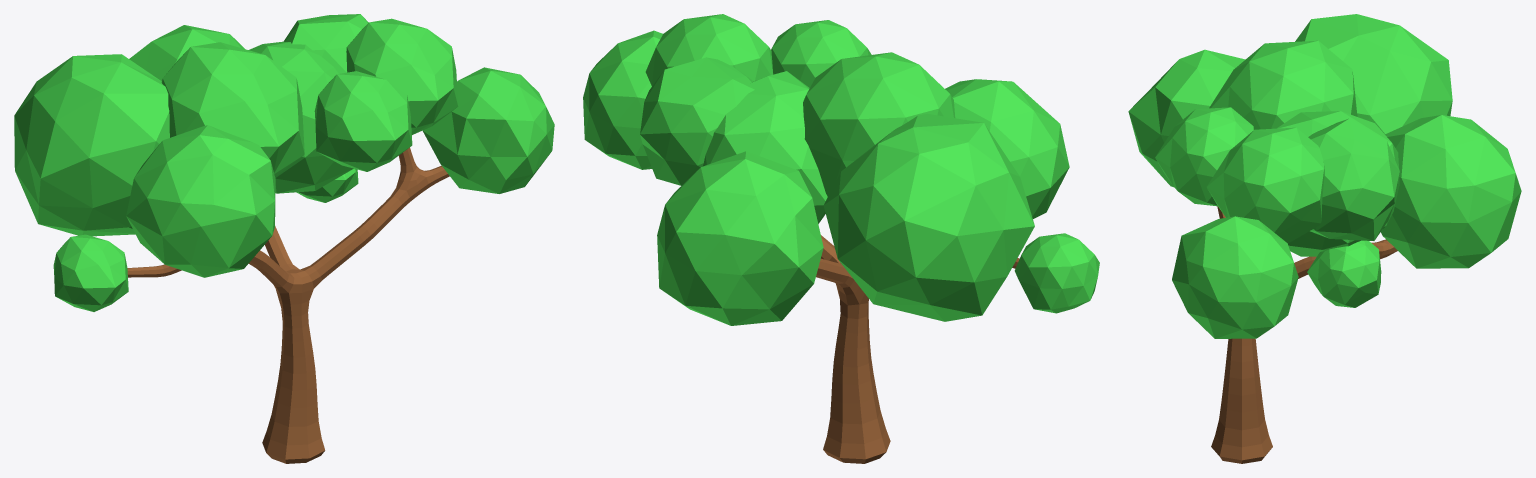
Rendered from tree.fbx.
3 views of the same model, side by side, from view 1: azimuth 30°, elevation 25°; view 2: azimuth 150°, elevation 25°; view 3: azimuth 270°, elevation 25° (orthographic). The views are drawn at different scales.
Visible parts, largest first — view 1: Icosphere.010, Icosphere.004, Plane, Icosphere.012, Icosphere.009, Icosphere.014, Icosphere.006, Icosphere.011, Icosphere.003, Icosphere.013, Icosphere.005, Icosphere.007; view 2: Icosphere.010, Icosphere.005, Icosphere.012, Icosphere.013, Plane, Icosphere.004, Icosphere.011, Icosphere.009, Icosphere.006, Icosphere.003, Icosphere.014; view 3: Icosphere.005, Icosphere.009, Icosphere.010, Icosphere.006, Icosphere.012, Icosphere.013, Icosphere.004, Plane, Icosphere.014, Icosphere.007, Icosphere.011.
Boxes of the visible parts, x1=… form: Icosphere.010: x1=14, y1=54, x2=169, y2=236; Icosphere.004: x1=126, y1=125, x2=275, y2=277; Plane: x1=127, y1=147, x2=449, y2=463; Icosphere.012: x1=161, y1=42, x2=304, y2=176; Icosphere.009: x1=422, y1=67, x2=554, y2=193; Icosphere.014: x1=314, y1=71, x2=412, y2=171; Icosphere.006: x1=346, y1=18, x2=458, y2=134; Icosphere.011: x1=248, y1=41, x2=353, y2=193; Icosphere.003: x1=53, y1=234, x2=128, y2=311; Icosphere.013: x1=283, y1=14, x2=368, y2=73; Icosphere.005: x1=129, y1=25, x2=244, y2=81; Icosphere.007: x1=296, y1=168, x2=358, y2=202; Icosphere.010: x1=823, y1=113, x2=1034, y2=321; Icosphere.005: x1=657, y1=151, x2=823, y2=325; Icosphere.012: x1=803, y1=52, x2=955, y2=196; Icosphere.013: x1=640, y1=57, x2=754, y2=185; Plane: x1=816, y1=235, x2=1019, y2=463; Icosphere.004: x1=945, y1=79, x2=1069, y2=218; Icosphere.011: x1=702, y1=71, x2=827, y2=223; Icosphere.009: x1=583, y1=30, x2=662, y2=169; Icosphere.006: x1=645, y1=14, x2=773, y2=85; Icosphere.003: x1=1014, y1=233, x2=1099, y2=313; Icosphere.014: x1=771, y1=20, x2=871, y2=87; Icosphere.005: x1=1381, y1=115, x2=1521, y2=268; Icosphere.009: x1=1172, y1=216, x2=1298, y2=338; Icosphere.010: x1=1295, y1=14, x2=1452, y2=134; Icosphere.006: x1=1207, y1=127, x2=1324, y2=243; Icosphere.012: x1=1209, y1=40, x2=1357, y2=129; Icosphere.013: x1=1308, y1=118, x2=1399, y2=240; Icosphere.004: x1=1128, y1=49, x2=1245, y2=187; Plane: x1=1211, y1=206, x2=1397, y2=463; Icosphere.014: x1=1155, y1=107, x2=1253, y2=206; Icosphere.007: x1=1307, y1=240, x2=1381, y2=307; Icosphere.011: x1=1277, y1=111, x2=1399, y2=256.
Size of the model in its own units: 1079 by 863 by 792.
